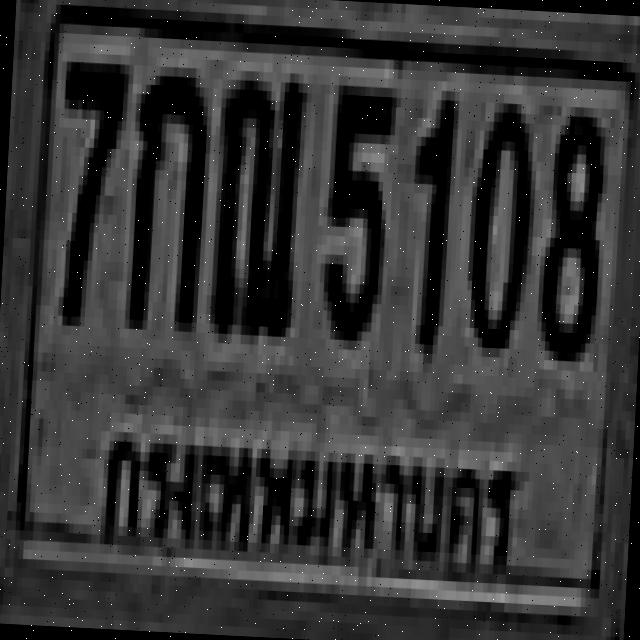0: (462, 93, 534, 350)
1: (402, 90, 456, 346)
10GorGai: (126, 65, 206, 322)
28NorNen: (205, 65, 304, 333)
5: (317, 76, 393, 342)
7: (49, 52, 125, 318)
8: (536, 106, 602, 353)
Bangkok: (88, 407, 526, 600)
